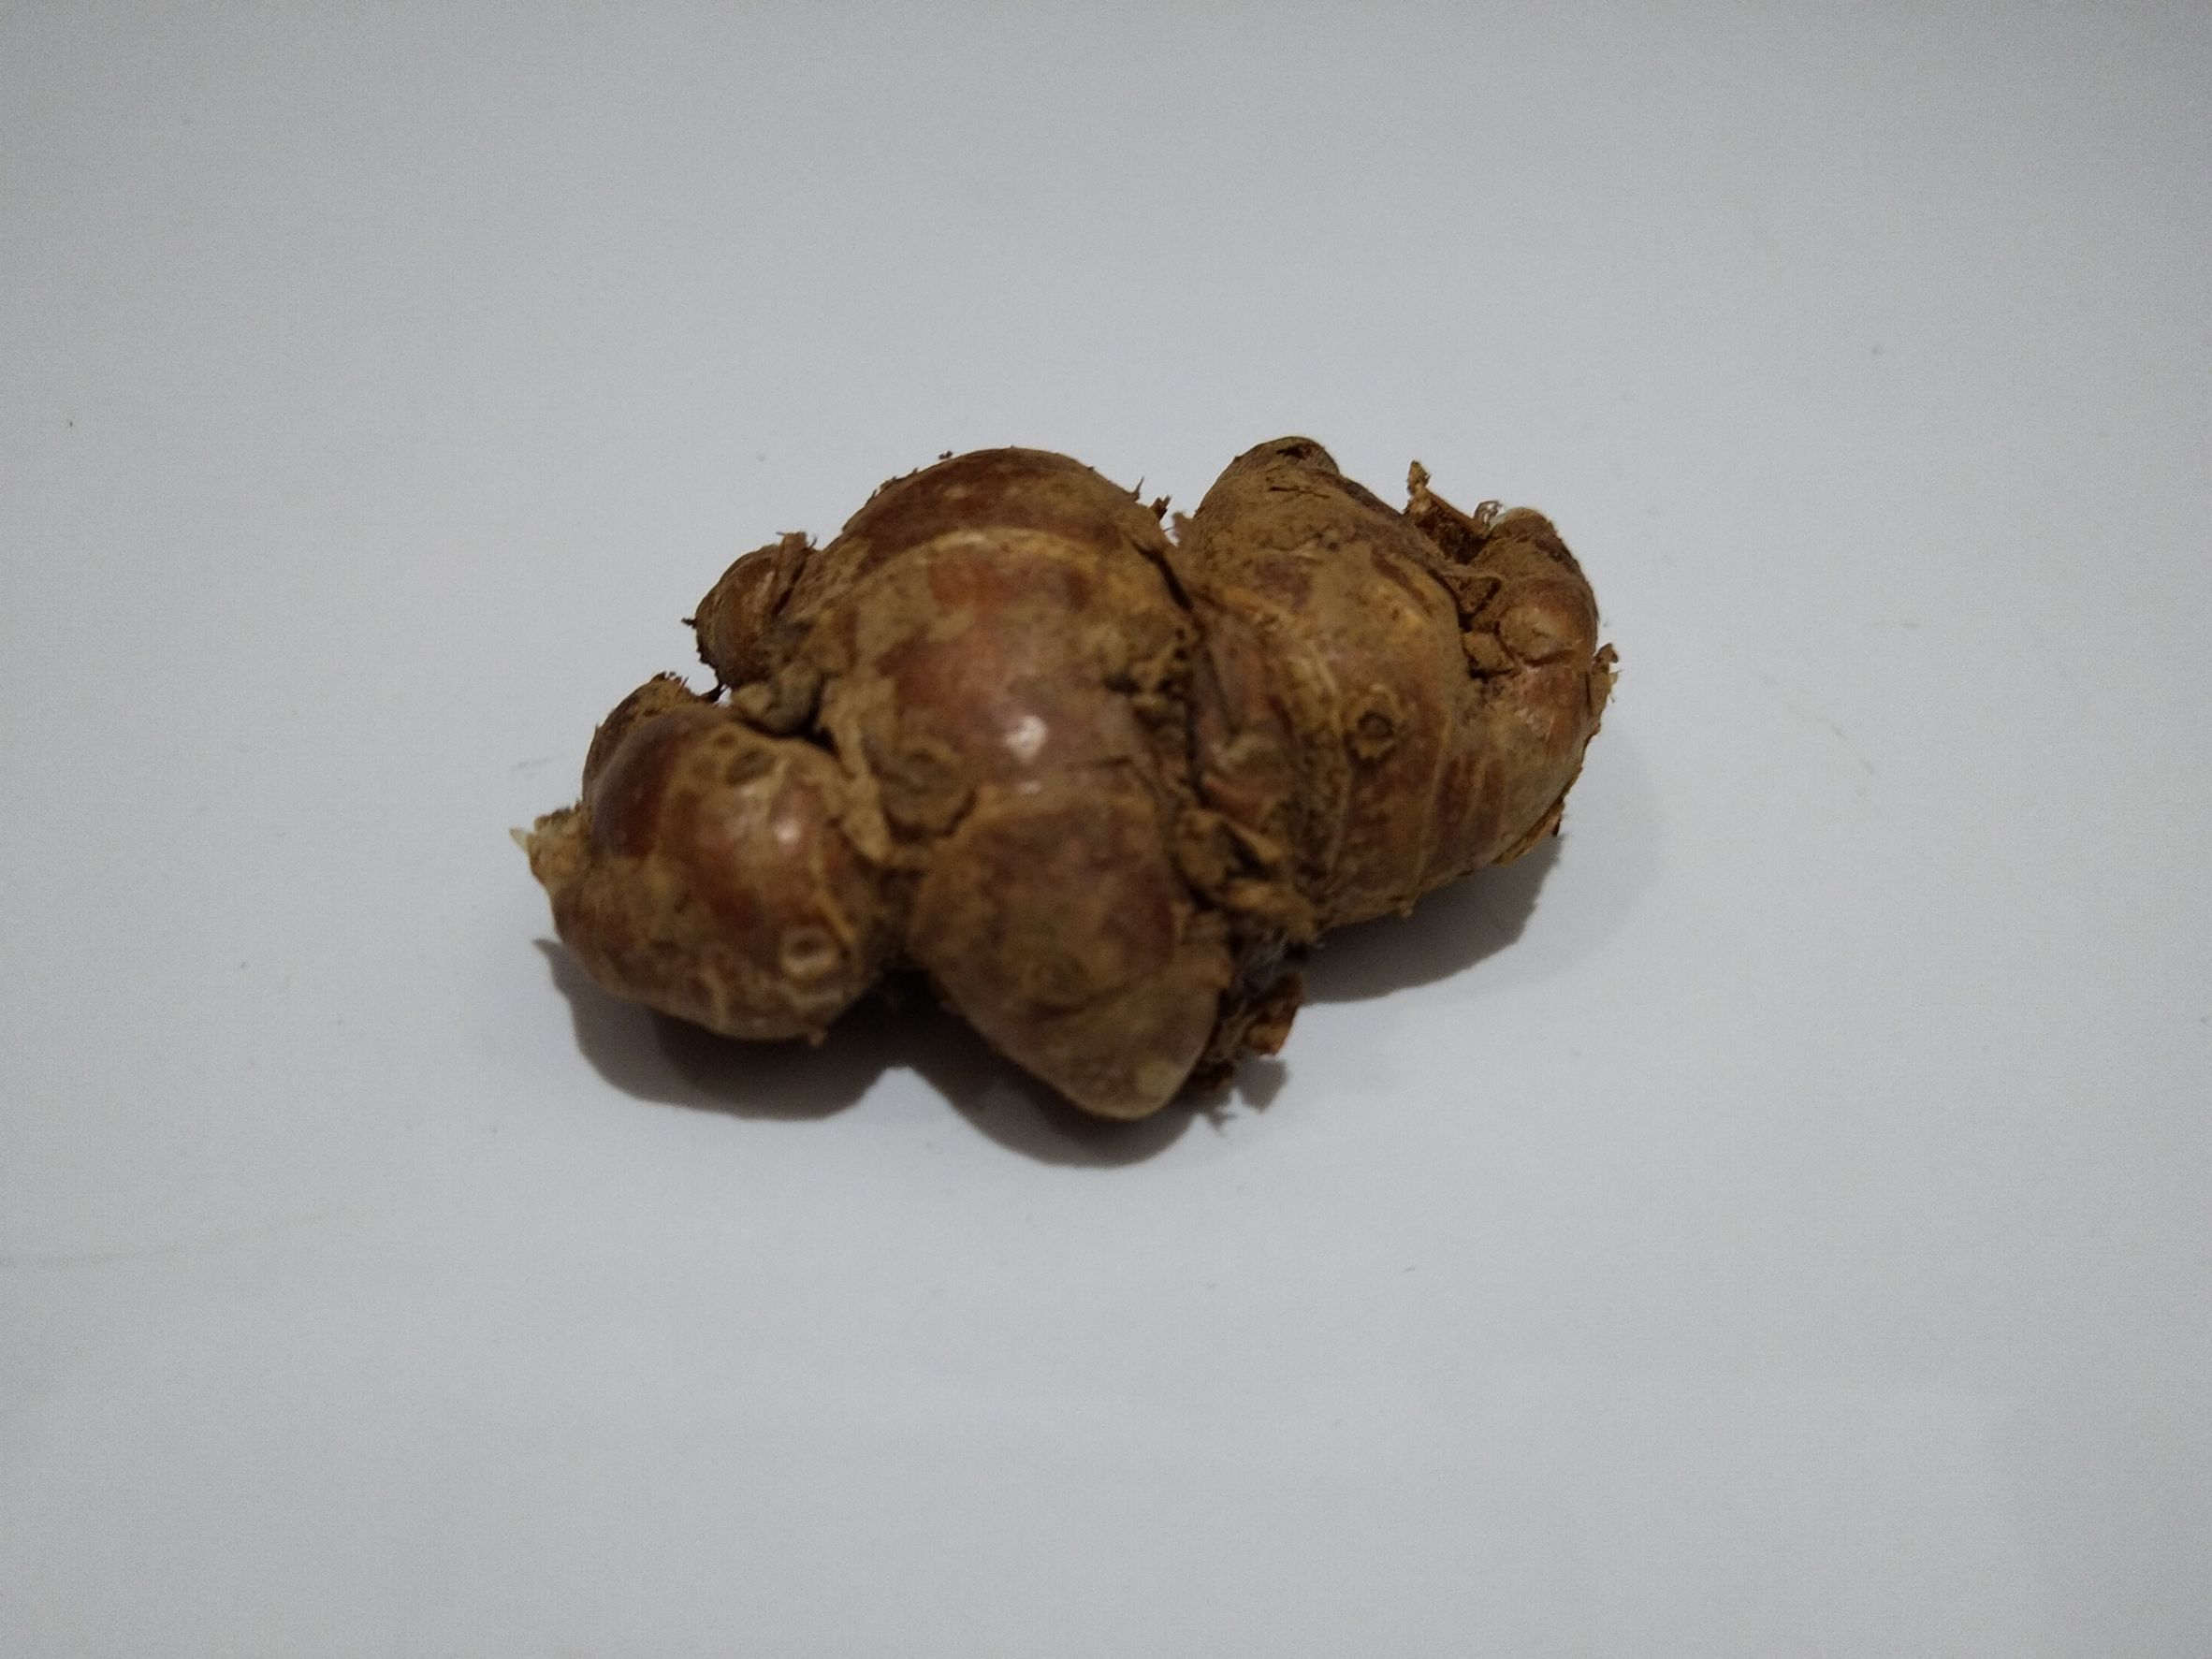Kencur: (542, 444, 1602, 1143)
